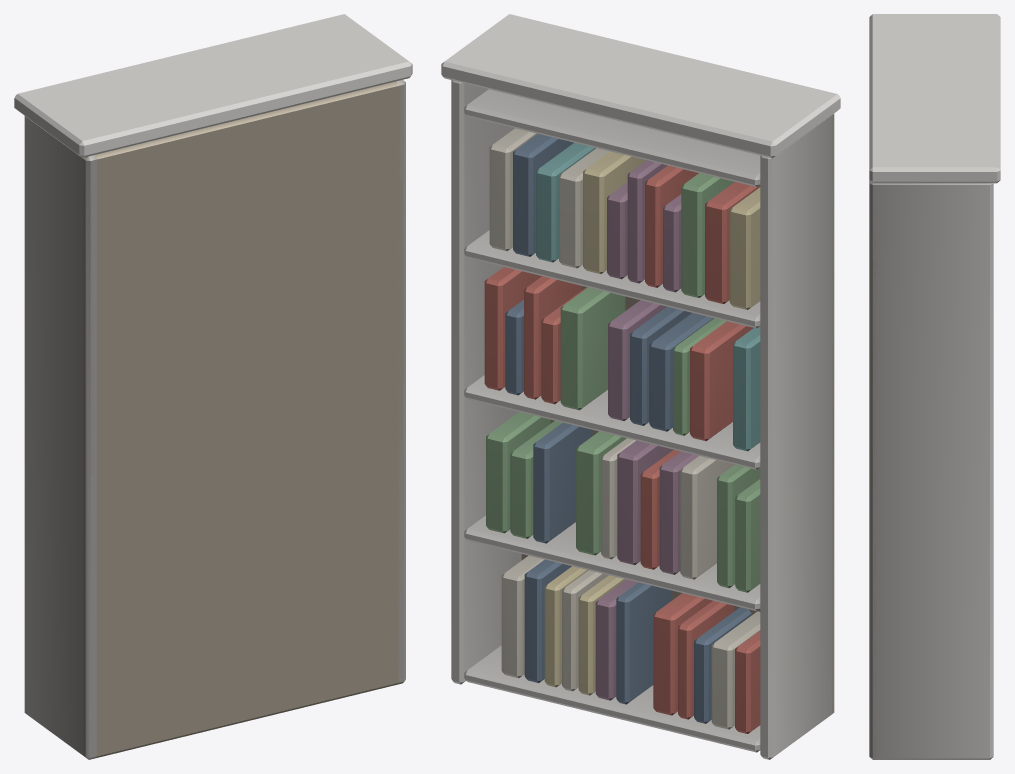
Rendered from furn_bookshelf__white.glb.
3 views of the same model, side by side, from view 1: azimuth 30°, elevation 25°; view 2: azimuth 150°, elevation 25°; view 3: azimuth 270°, elevation 25° (orthographic). The views are drawn at different scales.
Size of the model in its own units: 1.04 by 1.85 by 0.37.
